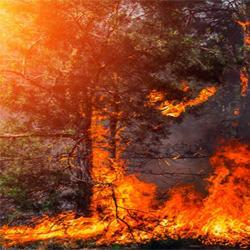fire: (93, 176, 156, 236), (216, 149, 250, 240), (6, 216, 87, 242), (167, 188, 212, 234)
